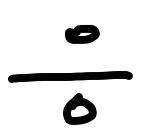div: (4, 23, 133, 123)
